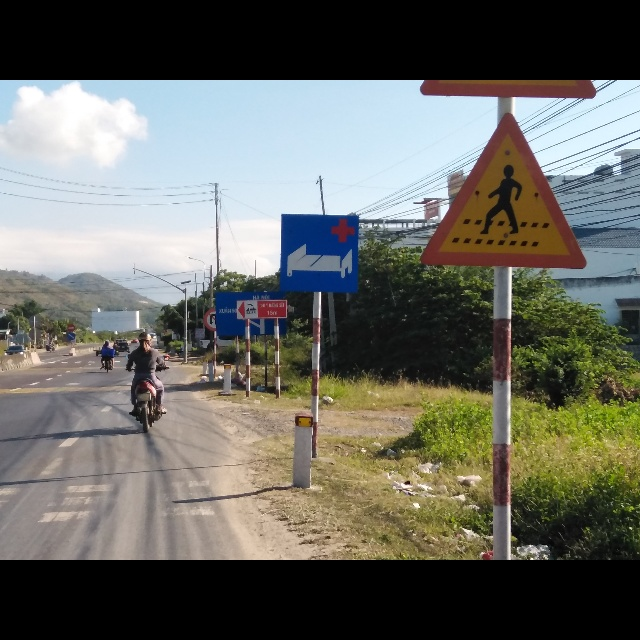Bệnh viện: (278, 213, 359, 295)
Đường người đi bộ sang đường: (419, 112, 591, 267)
